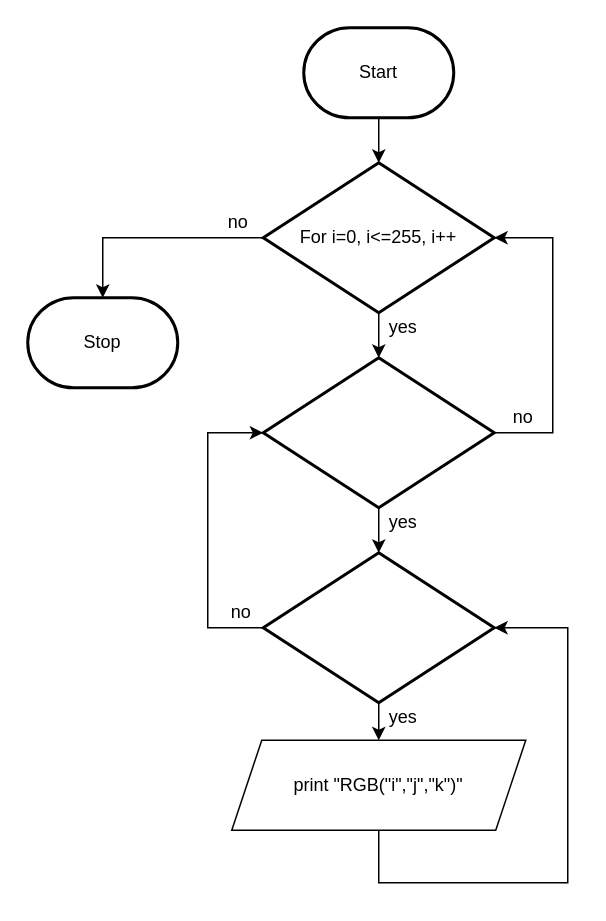
Some shapes in this 606 by 921 pixel diagram are drawn without their labels. The shapes that lost their labels are listed below. From the top down, each one's box as (x1, y1, x2, y2) in pixels, then its label:
(261, 356, 495, 508): For j=0, j<=255, j++
(261, 550, 495, 704): For k=0, k<=255, k++
